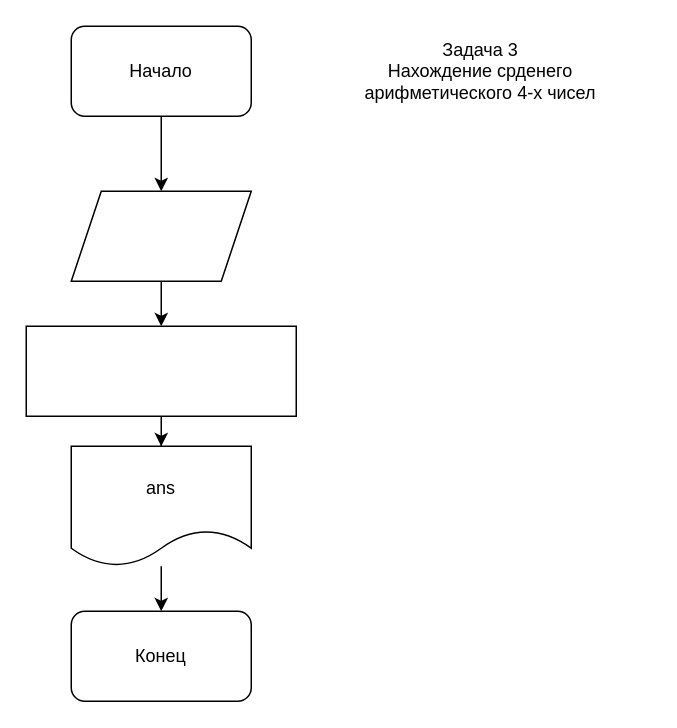
This 677x728 diagram has some shape labels left out. Each missing label, with the centre of its shape:
"ans = (n1 + n2 + n3 + n4) / 4" goes at [160,370].
"n1, n2, n3, n4" goes at [160,235].
